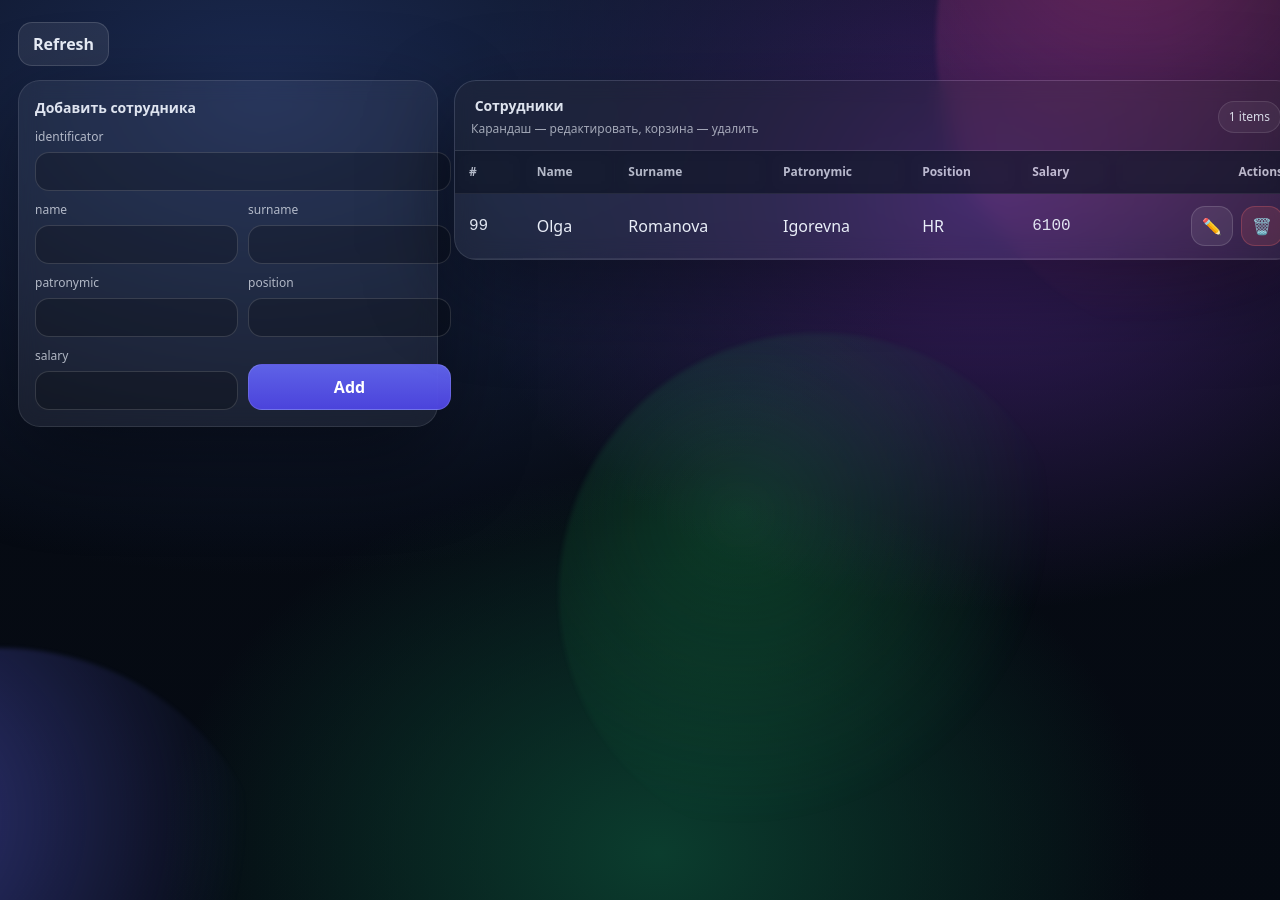
it: App › закрывает модалку редактирования по кнопке Cancel
The image size is (1280, 900).
Check: the text "Olga" is shown, box [523,194,614,259]
Click the button titled "Edit".
click(1212, 226)  # box [1191,206,1233,246]
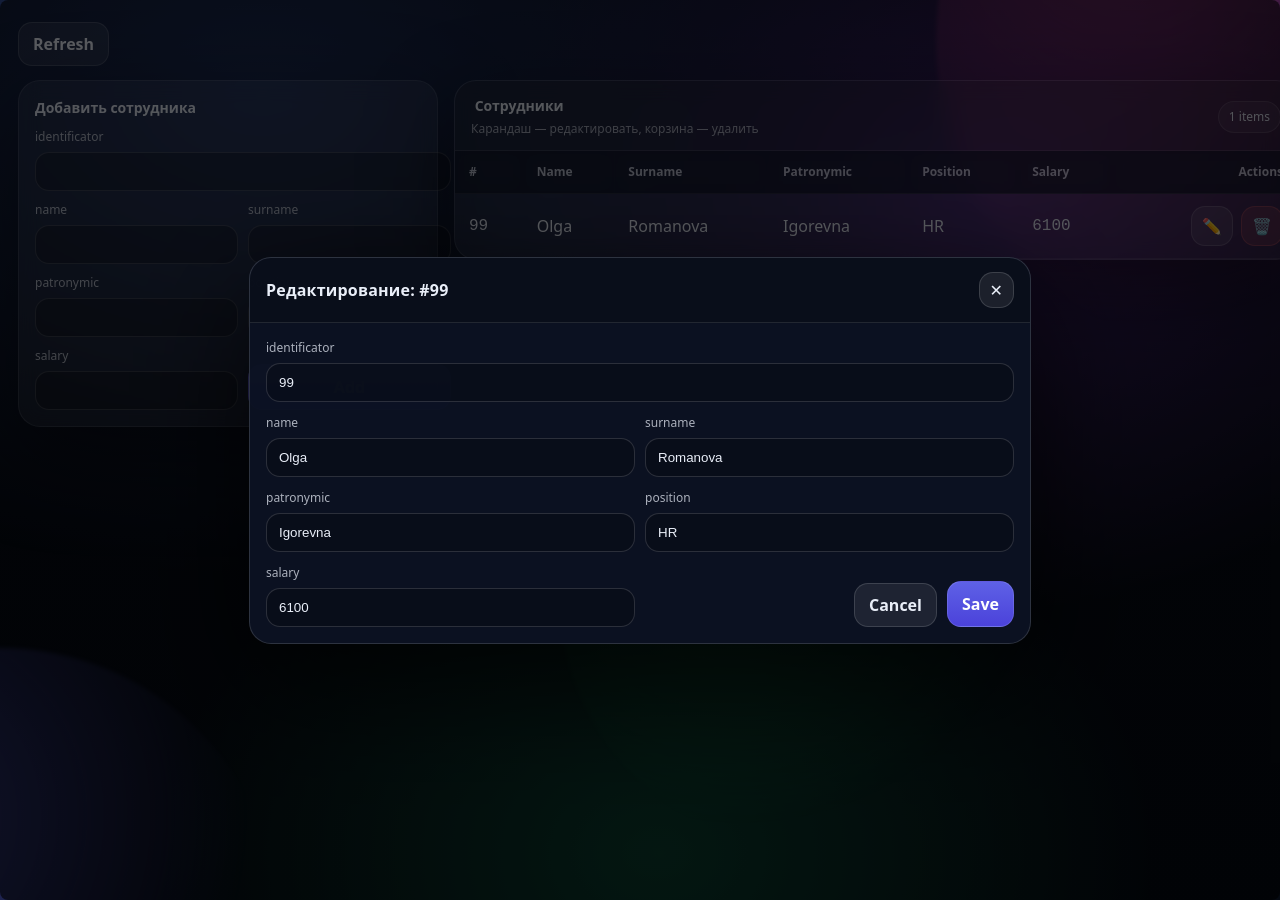
Check: the text "Редактирование: #99" is shown, box [266,278,449,302]
Click the button "Cancel".
click(895, 604)  # box [854,582,937,626]
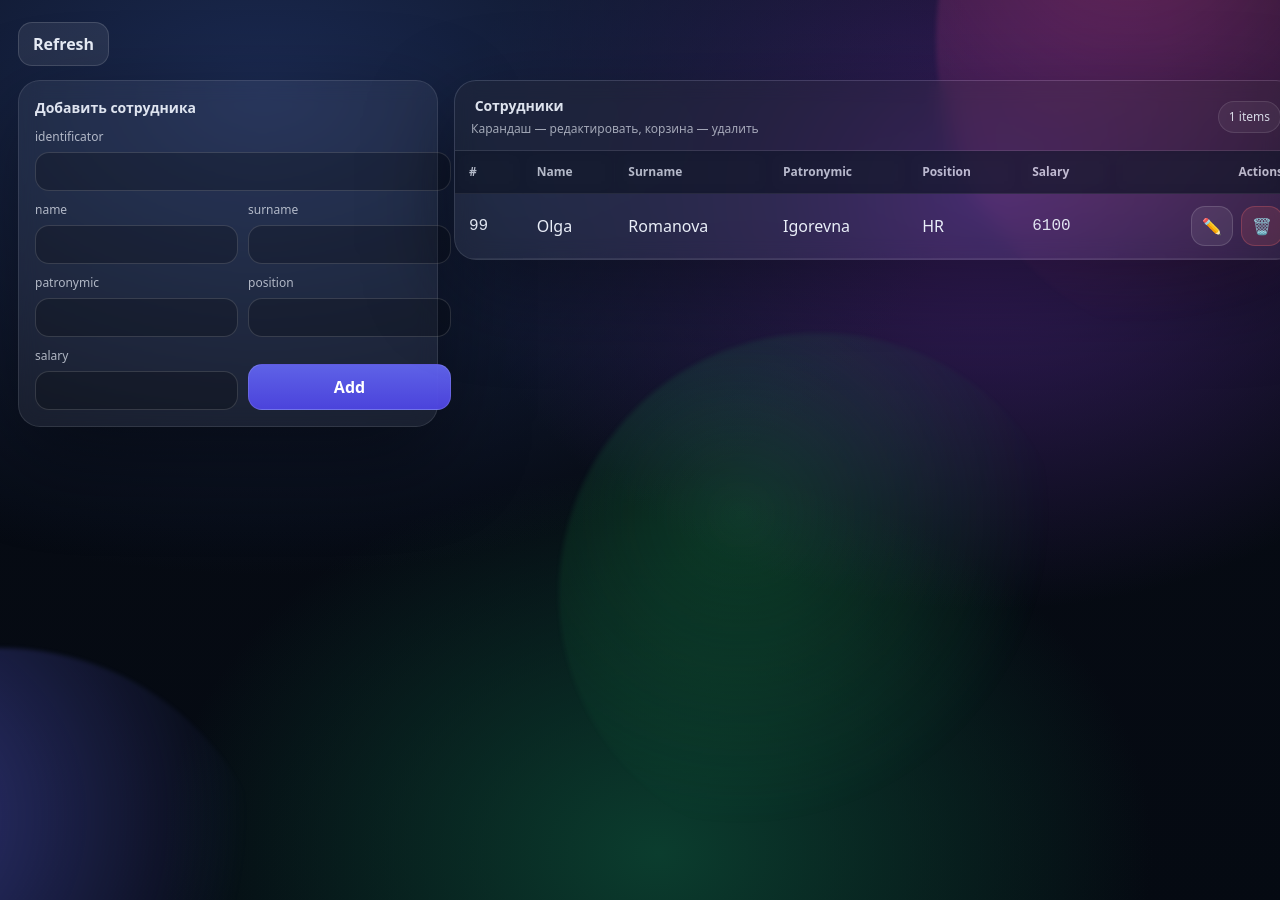
Check: the text "Редактирование: #99" is gone
